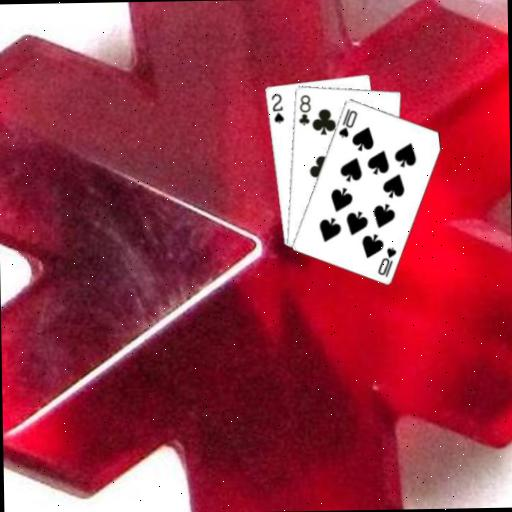10S: (335, 105, 359, 139), (374, 244, 398, 278)
2S: (268, 91, 285, 125)
8C: (295, 92, 312, 127)
